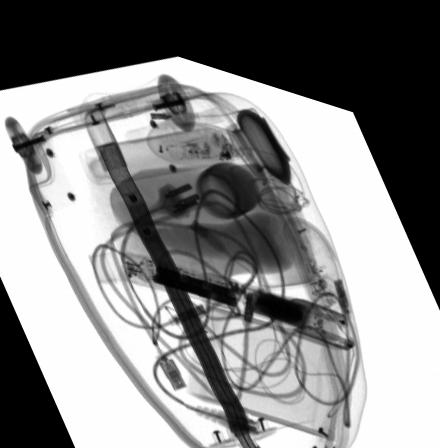Baton: (119, 243, 354, 328)
